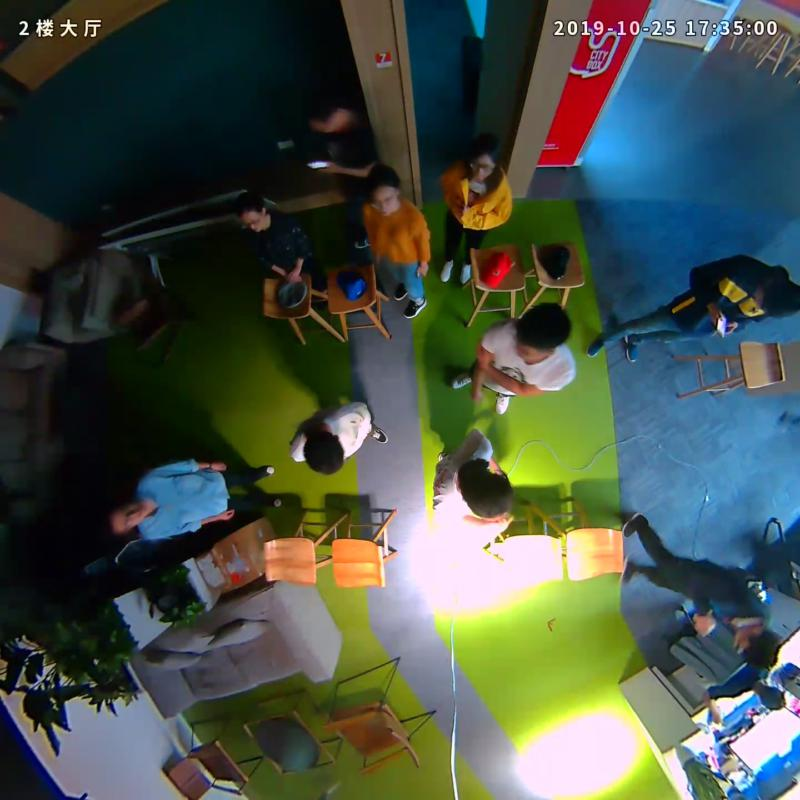head: (515, 302, 572, 363), (461, 468, 513, 519), (733, 622, 781, 667), (93, 499, 151, 535), (754, 277, 800, 318), (365, 163, 400, 216), (303, 433, 345, 474), (467, 135, 500, 183), (235, 191, 268, 233), (306, 104, 349, 135)
